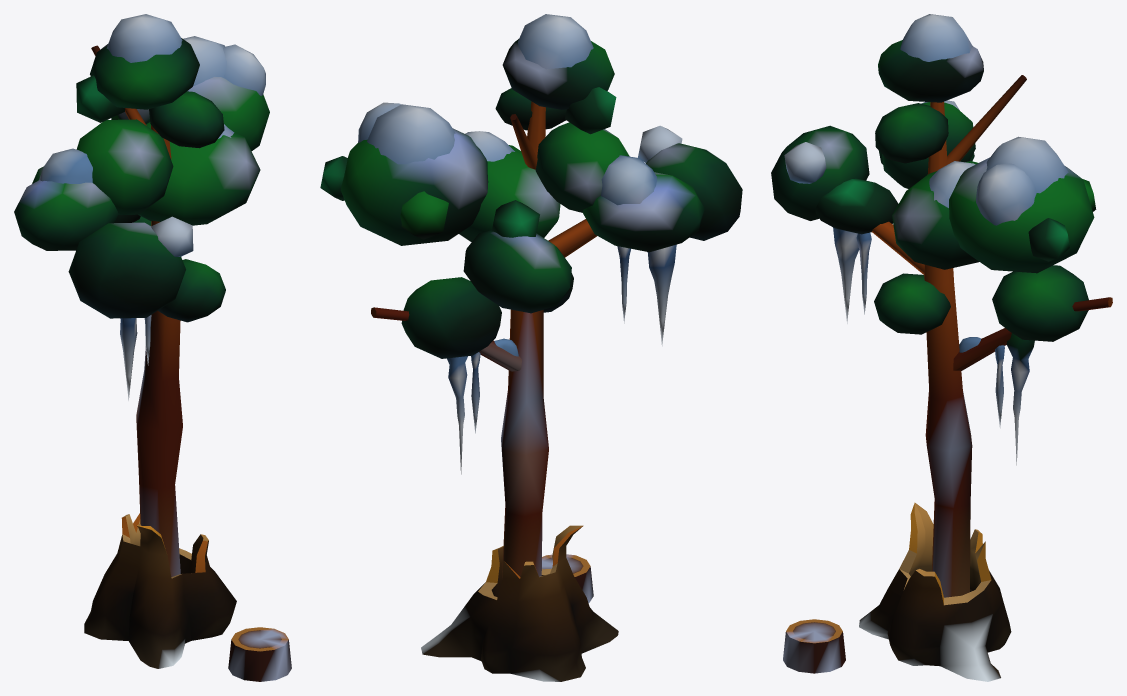
Rendered from Pine_04.fbx.
3 renders of one model, left to right at view 1: azimuth 30°, elevation 25°; view 2: azimuth 150°, elevation 25°; view 3: azimuth 270°, elevation 25°, orthographic. The views are drawn at different scales.
Visible parts, largest first — view 1: Pine_04; view 2: Pine_04; view 3: Pine_04.
Boxes of the visible parts, bbox=[...] form: Pine_04: bbox=[14, 14, 291, 681]; Pine_04: bbox=[320, 14, 742, 681]; Pine_04: bbox=[771, 14, 1112, 681].
Bounding box in the file's own units: 3071 × 6052 × 3040.
